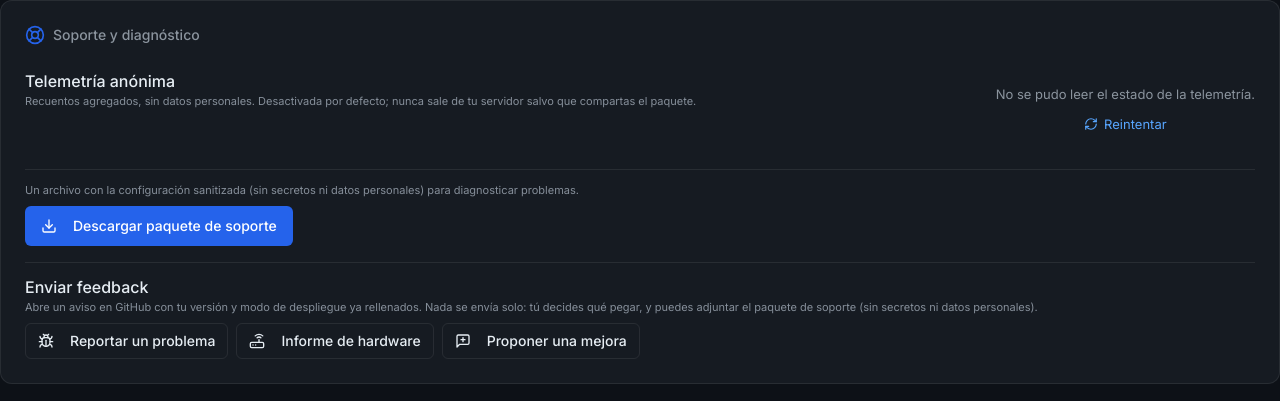
Test: SupportCard: la telemetría que falla se dice y se reintenta › no deja el botón muerto sin motivo
Expected: the text "No se pudo leer el estado de la telemetría." is shown, 996,85 -> 1255,103
Click the button "Reintentar".
click(1125, 124)  # box 1076,111 -> 1175,137
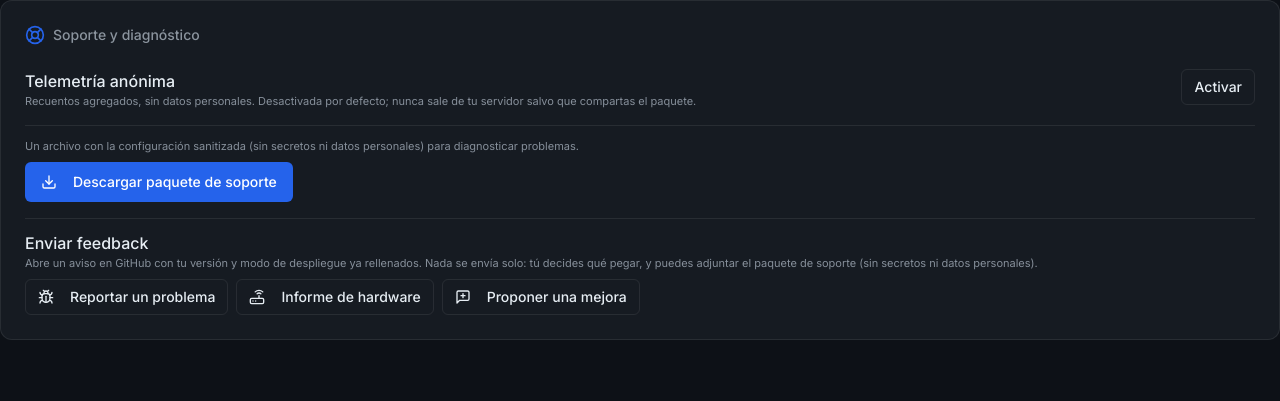
Expected: the button "Activar" is enabled, 1182,69 -> 1255,105
Expected: the text "No se pudo leer el estado de la telemetría." is gone
